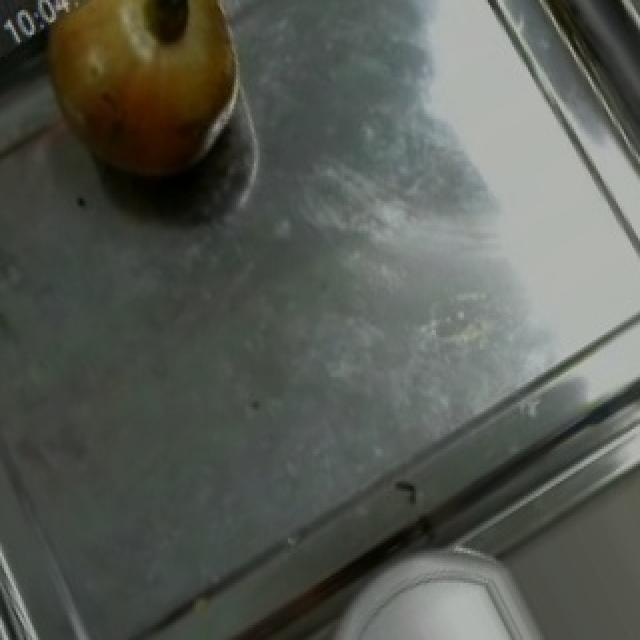fruit: (10, 0, 266, 201)
